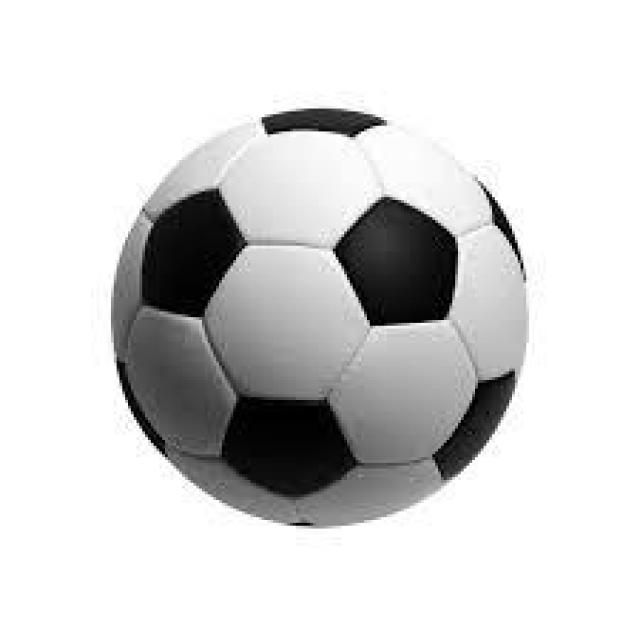Soccer Ball: (111, 109, 526, 534)
